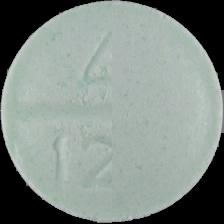0185-0128: (0, 0, 224, 224)
